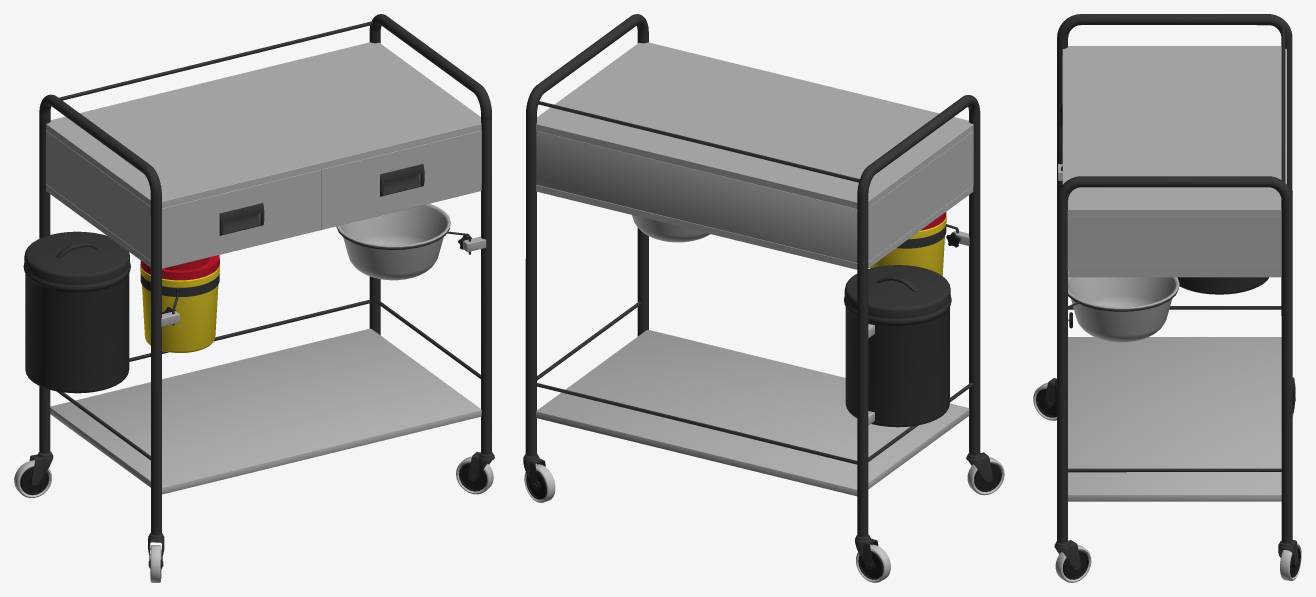
The model's file is FBX_Steel_CartShelf02.fbx.
The picture shows the model from 3 angles, left to right: view 1: azimuth 30°, elevation 25°; view 2: azimuth 150°, elevation 25°; view 3: azimuth 270°, elevation 25°; orthographic projection.
Visible parts, largest first — view 1: SM_Steel_CartShelf02; view 2: SM_Steel_CartShelf02; view 3: SM_Steel_CartShelf02.
Boxes of the visible parts, bbox=[...] form: SM_Steel_CartShelf02: bbox=[14, 14, 494, 582]; SM_Steel_CartShelf02: bbox=[523, 14, 1004, 582]; SM_Steel_CartShelf02: bbox=[1033, 14, 1301, 582].
Size of the model in its own units: 1.15 by 1.15 by 0.6881.
